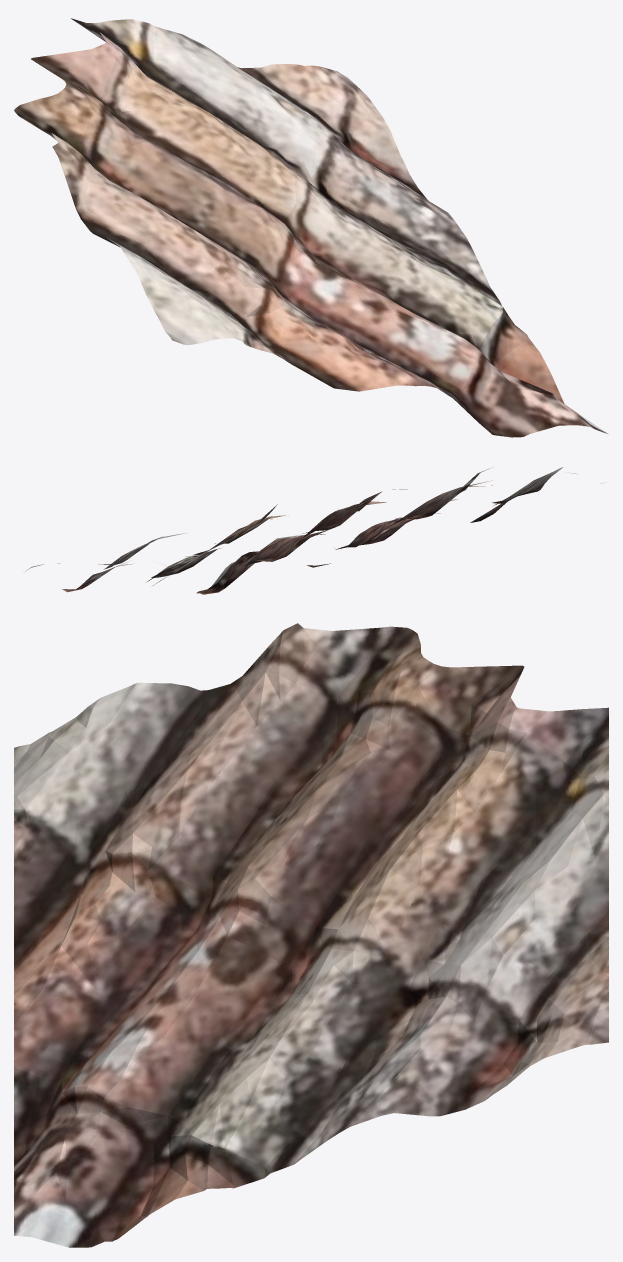
3 views of the same model, one above another, from view 1: azimuth 30°, elevation 25°; view 2: azimuth 150°, elevation 25°; view 3: azimuth 270°, elevation 25° (orthographic). The views are drawn at different scales.
Size of the model in its own units: 0.8373 by 0.5796 by 0.8374.
Materials: 3 (3 with a texture image).
